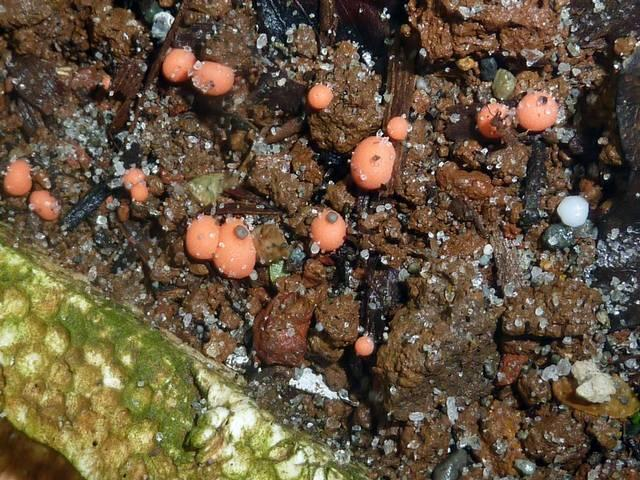poisonous_mushroom: (160, 46, 235, 97), (212, 217, 257, 279), (349, 134, 396, 190), (515, 89, 559, 132), (308, 207, 347, 253), (189, 59, 235, 96), (184, 213, 219, 260), (475, 101, 510, 139), (160, 46, 195, 83), (555, 194, 589, 227), (27, 188, 61, 221), (305, 83, 334, 110), (385, 114, 410, 140)
